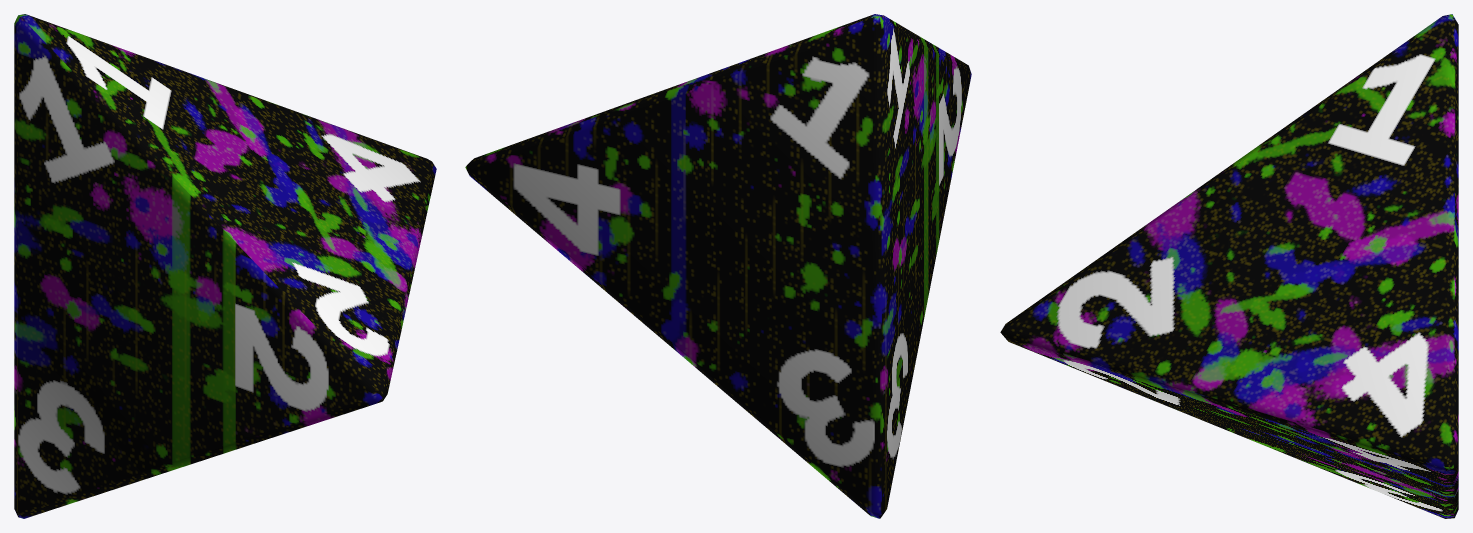
3 views of the same model, side by side, from view 1: azimuth 30°, elevation 25°; view 2: azimuth 150°, elevation 25°; view 3: azimuth 270°, elevation 25° (orthographic).
Visible parts, largest first — view 1: 4TieDye_4TieDye_0; view 2: 4TieDye_4TieDye_0; view 3: 4TieDye_4TieDye_0.
Boxes of the visible parts, x1,y1,x2,y2 form: 4TieDye_4TieDye_0: [14, 14, 436, 518]; 4TieDye_4TieDye_0: [465, 14, 971, 518]; 4TieDye_4TieDye_0: [1000, 14, 1458, 518].
Size of the model in its own units: 1.35 by 1.55 by 1.28.
1 material, 1 textured.
